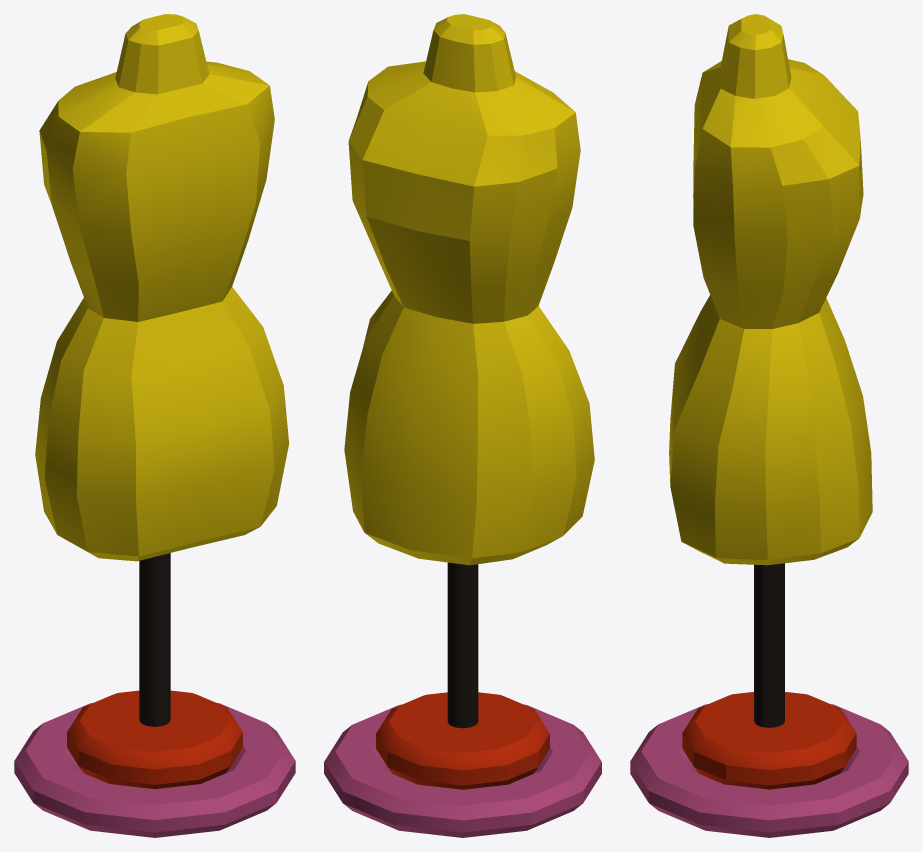
The model's file is Dummy.FBX.
3 views of the same model, side by side, from view 1: azimuth 30°, elevation 25°; view 2: azimuth 150°, elevation 25°; view 3: azimuth 270°, elevation 25° (orthographic).
Visible parts, largest first — view 1: Dummy; view 2: Dummy; view 3: Dummy.
Boxes of the visible parts, box(x1,y1,x2,y2) form: Dummy: box(14, 14, 295, 837); Dummy: box(324, 14, 601, 837); Dummy: box(630, 14, 908, 837).
Size of the model in its own units: 361 by 361 by 1085.
